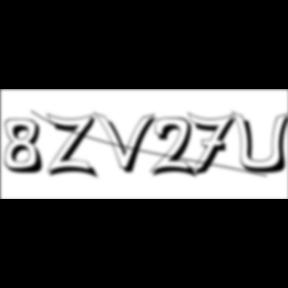2: (151, 117, 201, 181)
7: (188, 111, 242, 179)
8: (4, 117, 50, 176)
V: (94, 110, 160, 176)
Z: (46, 112, 101, 181)
